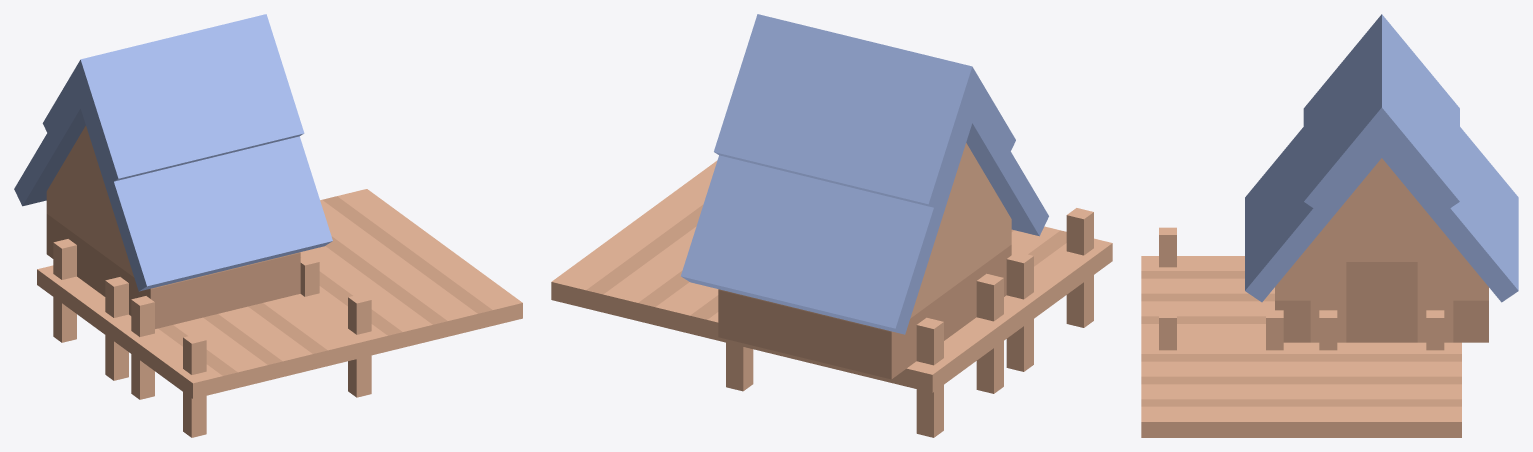
File: FisherHouselvl2.fbx
3 views of the same model, side by side, from view 1: azimuth 30°, elevation 25°; view 2: azimuth 150°, elevation 25°; view 3: azimuth 270°, elevation 25° (orthographic). The views are drawn at different scales.
Visible parts, largest first — view 1: building.001, Dock.003, Dock.005, Dock, Dock.001; view 2: building.001, Dock, Dock.003, Dock.001, Dock.005; view 3: building.001, Dock.005, Dock, Dock.003.
Part boxes in pixels (box(x1,y1,x2,y2)): building.001: box(14, 14, 332, 328); Dock.003: box(115, 295, 357, 437); Dock.005: box(293, 246, 522, 397); Dock: box(300, 189, 444, 276); Dock.001: box(37, 239, 131, 380); building.001: box(681, 14, 1048, 379); Dock: box(551, 216, 753, 391); Dock.003: box(1004, 208, 1112, 371); Dock.001: box(742, 273, 1022, 437); Dock.005: box(642, 160, 717, 228); building.001: box(1245, 14, 1518, 342); Dock.005: box(1141, 310, 1301, 437); Dock: box(1301, 310, 1461, 437); Dock.003: box(1141, 227, 1274, 338).
Size of the model in its own units: 55 by 47.81 by 52.95.
